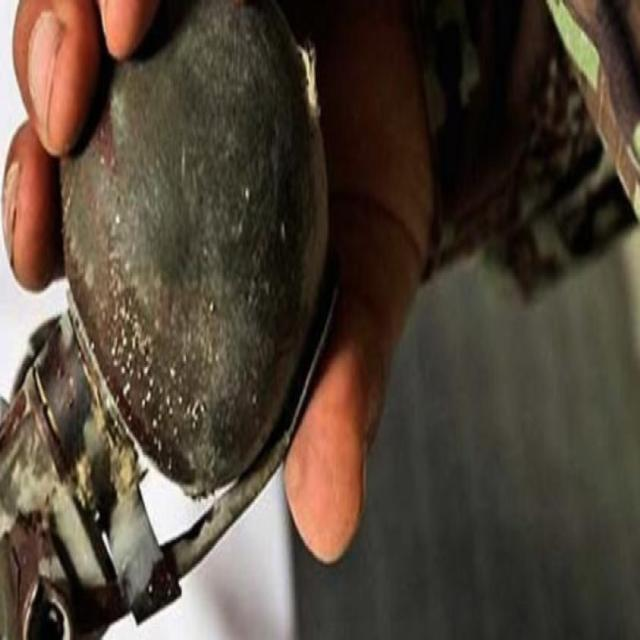grenade: (1, 3, 338, 640)
